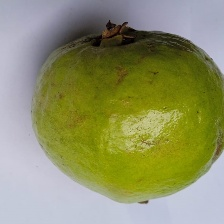guava: (40, 1, 222, 188)
